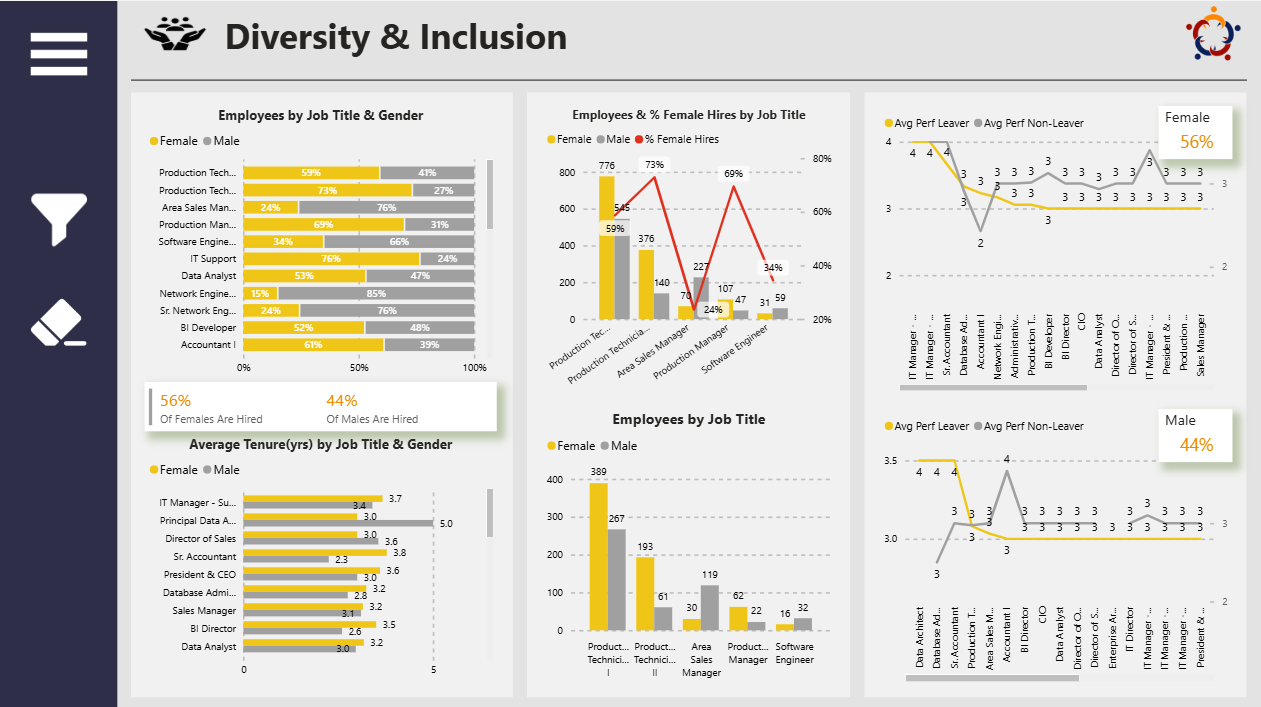

The page's visual inventory and layout, read from the dashboard file:
{"tool":"powerbi","page":{"name":"Diversity & Inclusion","canvas":[1536,864],"ordinal":3},"visuals":[{"type":"shape","box":[1053.5,112,464.6,736],"z":0},{"type":"shape","box":[642.5,112,393.1,736],"z":1000},{"type":"shape","box":[160,112,464.6,736],"z":2000},{"type":"lineChart","fields":{"Y":["Measure Table.Avg Perf Leaver"],"Y2":["Measure Table.Avg Perf Non-Leaver"],"Category":["employee_data.Title"]},"box":[1071.9,127.9,428.5,351.2],"z":3000},{"type":"lineChart","fields":{"Category":["employee_data.Title"],"Y":["Measure Table.Avg Perf Leaver"],"Y2":["Measure Table.Avg Perf Non-Leaver"]},"box":[1071.4,496,428.9,336],"z":4000},{"type":"clusteredBarChart","title":"Average Tenure(yrs) by Job Title & Gender","fields":{"Category":["employee_data.Title"],"Series":["employee_data.GenderCode"],"Y":["Measure Table.Average Tenure(Years)"]},"box":[177.9,528,428.9,304],"z":5000},{"type":"hundredPercentStackedBarChart","title":"Employees by Job Title & Gender","fields":{"Y":["Measure Table.All Emps"],"Category":["employee_data.Title"],"Series":["employee_data.GenderCode"]},"box":[177.9,128,428.9,336],"z":6000},{"type":"lineClusteredColumnComboChart","title":"Employees & % Female Hires by Job Title ","fields":{"Category":["employee_data.Title"],"Y":["Measure Table.All Emps"],"Y2":["employee_data.% Female Hires"],"Series":["employee_data.GenderCode"]},"box":[660.4,128,357.4,352],"z":7000},{"type":"multiRowCard","fields":{"Values":["employee_data.% Female Hires","employee_data.% Male Hires"]},"box":[177.9,464,428.9,60],"z":8000},{"type":"clusteredColumnChart","title":"Employees by Job Title","fields":{"Category":["employee_data.Title"],"Y":["Measure Table.All Emps"],"Series":["employee_data.GenderCode"]},"box":[660.4,496,357.4,336],"z":9000},{"type":"textbox","box":[267.2,0,1268.8,80],"z":10000},{"type":"shape","box":[160,80,1358.1,32],"z":11000},{"type":"image","box":[160,0,107.2,80],"z":12000},{"type":"shape","box":[0,0,144,864],"z":14000},{"type":"image","box":[32.4,32.4,80.2,63],"z":15000},{"type":"image","box":[32.4,225.2,80.2,80.2],"z":16000},{"type":"image","box":[32.4,351.2,80.2,80.2],"z":17000},{"type":"image","box":[1439.2,0,78.3,80.2],"z":18000},{"type":"card","title":"Female","fields":{"Values":["Measure Table.Female %"]},"box":[1410.6,127.9,89.7,64.9],"z":20000},{"type":"card","title":"Male","fields":{"Values":["Measure Table.male %"]},"box":[1410.6,496.3,89.7,64.9],"z":21000}]}

Visuals, with their boxes on the page's 1536x864 design canvas (x1, y1, x2, y2). These are canvas units, not pixel positions in the 1261x707 screenshot, which may show the page scaled, cropped or inside an application window:
shape: bbox=(1054, 112, 1518, 848)
shape: bbox=(642, 112, 1036, 848)
shape: bbox=(160, 112, 625, 848)
lineChart - Measure Table.Avg Perf Leaver x Measure Table.Avg Perf Non-Leaver: bbox=(1072, 128, 1500, 479)
lineChart - employee_data.Title x Measure Table.Avg Perf Leaver: bbox=(1071, 496, 1500, 832)
"Average Tenure(yrs) by Job Title & Gender" clusteredBarChart: bbox=(178, 528, 607, 832)
"Employees by Job Title & Gender" hundredPercentStackedBarChart: bbox=(178, 128, 607, 464)
"Employees & % Female Hires by Job Title " lineClusteredColumnComboChart: bbox=(660, 128, 1018, 480)
multiRowCard - employee_data.% Female Hires x employee_data.% Male Hires: bbox=(178, 464, 607, 524)
"Employees by Job Title" clusteredColumnChart: bbox=(660, 496, 1018, 832)
textbox: bbox=(267, 0, 1536, 80)
shape: bbox=(160, 80, 1518, 112)
image: bbox=(160, 0, 267, 80)
shape: bbox=(0, 0, 144, 864)
image: bbox=(32, 32, 113, 95)
image: bbox=(32, 225, 113, 305)
image: bbox=(32, 351, 113, 431)
image: bbox=(1439, 0, 1518, 80)
"Female" card: bbox=(1411, 128, 1500, 193)
"Male" card: bbox=(1411, 496, 1500, 561)
